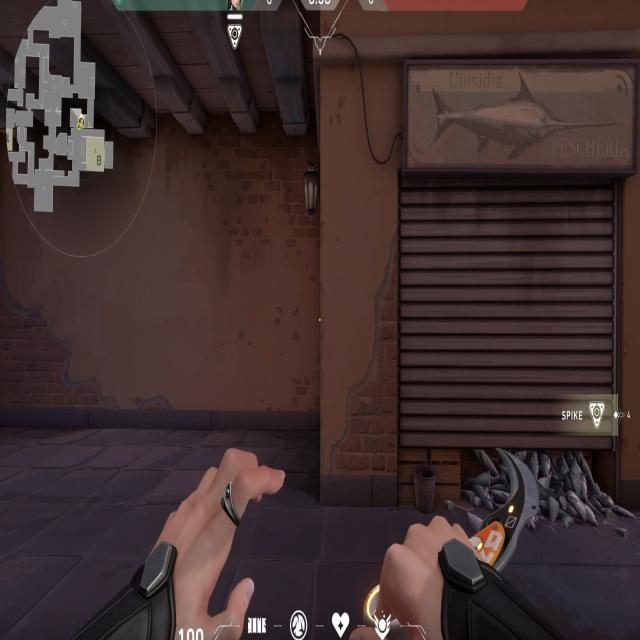B_Main_Corner: (318, 34, 632, 567)
